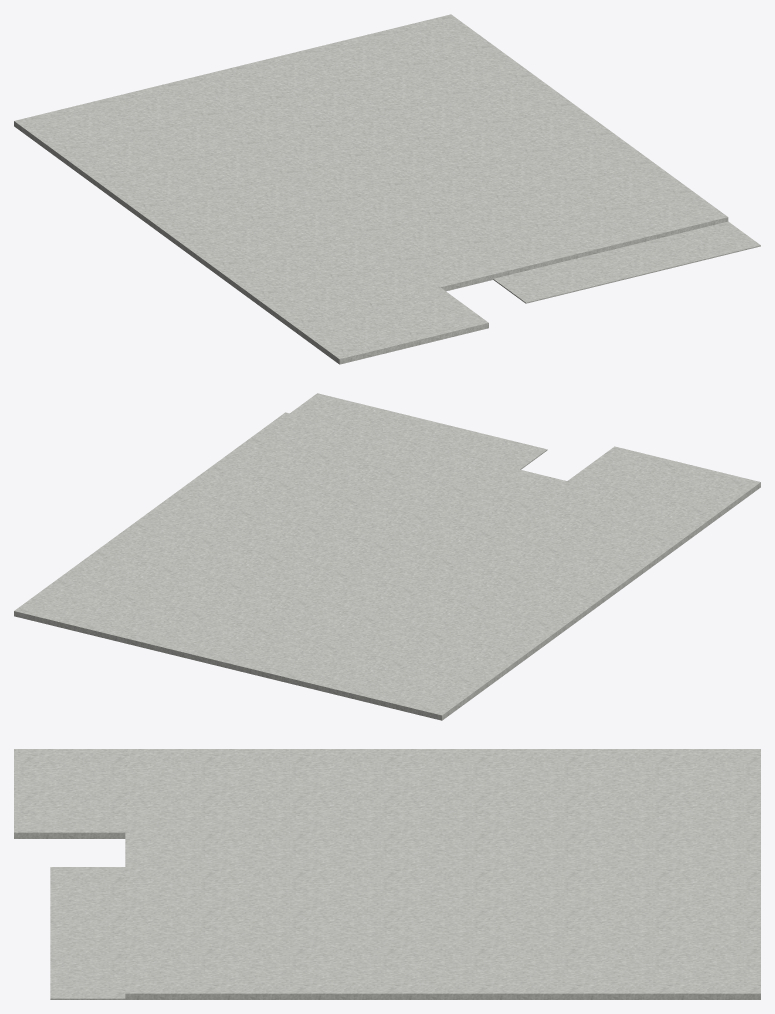
The model's file is SM_House_Slab.fbx.
The picture shows the model from 3 angles, top to bottom: view 1: azimuth 30°, elevation 25°; view 2: azimuth 150°, elevation 25°; view 3: azimuth 270°, elevation 25°; orthographic projection. The views are drawn at different scales.
Visible parts, largest first — view 1: SM_House_Slab; view 2: SM_House_Slab; view 3: SM_House_Slab.
Part boxes in pixels (left/top/right/bottom): SM_House_Slab: left=14, top=14, right=760, bottom=364; SM_House_Slab: left=14, top=393, right=760, bottom=720; SM_House_Slab: left=14, top=749, right=760, bottom=999.
Bounding box in the file's own units: 12.76 × 0.15 × 16.46.
1 material, 1 textured.
